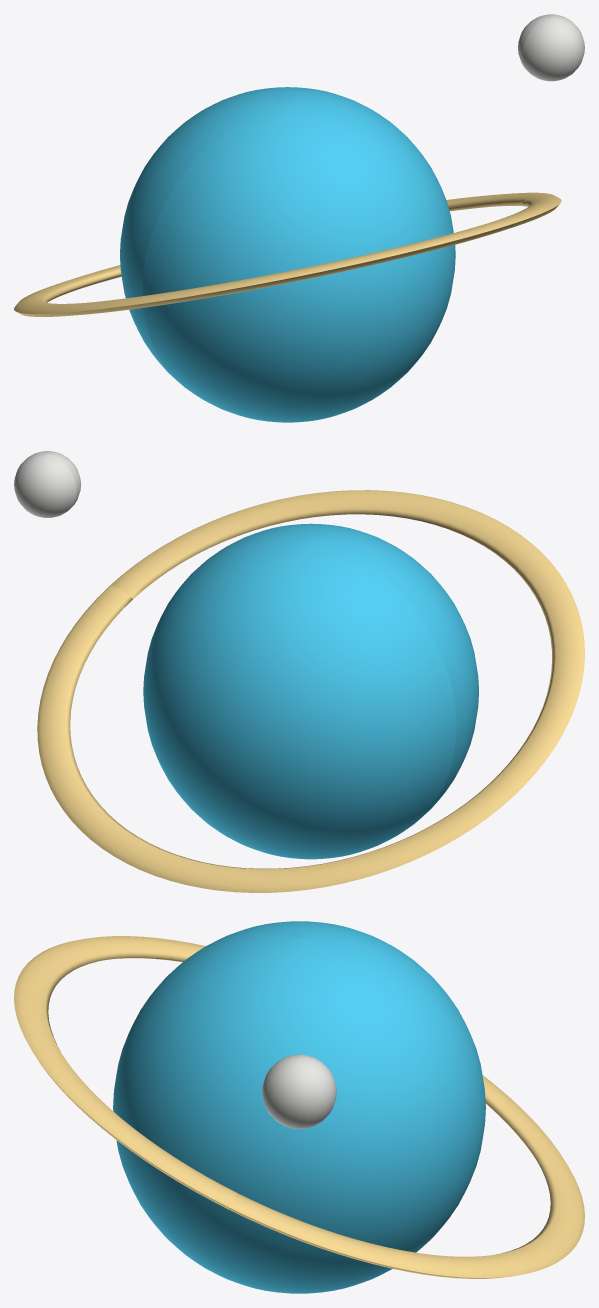
File: planet.glb
3 views of the same model, one above another, from view 1: azimuth 30°, elevation 25°; view 2: azimuth 150°, elevation 25°; view 3: azimuth 270°, elevation 25° (orthographic). The views are drawn at different scales.
Visible parts, largest first — view 1: globe, ring, moon; view 2: globe, ring, moon; view 3: globe, ring, moon.
Part boxes in pixels (x1,y1,x2,y2): globe: [120, 87, 455, 422]; ring: [14, 192, 561, 316]; moon: [518, 14, 584, 81]; globe: [143, 523, 478, 859]; ring: [37, 490, 584, 892]; moon: [14, 451, 80, 517]; globe: [113, 921, 485, 1293]; ring: [14, 936, 584, 1278]; moon: [262, 1054, 336, 1128].
Bounding box in the file's own units: 2.94 × 1.71 × 2.45.
